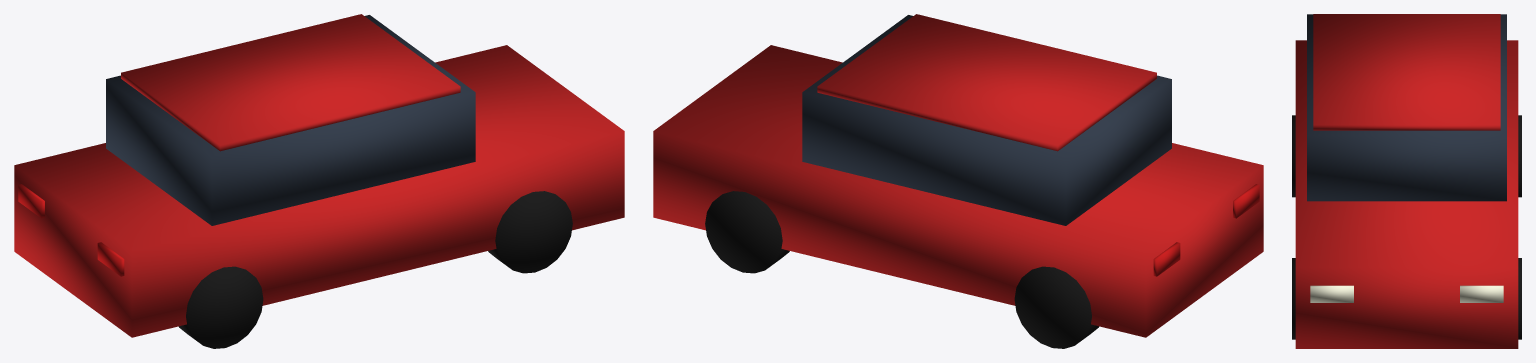
Rendered from traffic_car_red.dae.
The picture shows the model from 3 angles, left to right: view 1: azimuth 30°, elevation 25°; view 2: azimuth 150°, elevation 25°; view 3: azimuth 270°, elevation 25°; orthographic projection. The views are drawn at different scales.
Visible parts, largest first — view 1: node0, node1, node2, node3, node5, node8, node10; view 2: node0, node1, node2, node4, node6, node10, node8; view 3: node0, node2, node1, node7, node9, node3, node4, node5, node6.
Part boxes in pixels (bbox=[...]): node0: bbox=[14, 45, 624, 337]; node1: bbox=[106, 15, 475, 225]; node2: bbox=[121, 14, 460, 151]; node3: bbox=[178, 266, 263, 348]; node5: bbox=[488, 191, 572, 273]; node8: bbox=[97, 242, 124, 276]; node10: bbox=[18, 184, 44, 218]; node0: bbox=[653, 45, 1263, 337]; node1: bbox=[802, 15, 1171, 225]; node2: bbox=[817, 14, 1156, 151]; node4: bbox=[1014, 266, 1099, 348]; node6: bbox=[705, 191, 789, 273]; node10: bbox=[1153, 242, 1180, 276]; node8: bbox=[1233, 184, 1259, 218]; node0: bbox=[1295, 40, 1518, 348]; node2: bbox=[1313, 14, 1500, 130]; node1: bbox=[1307, 14, 1506, 201]; node7: bbox=[1310, 285, 1353, 302]; node9: bbox=[1460, 285, 1503, 302]; node3: bbox=[1292, 115, 1295, 197]; node4: bbox=[1518, 115, 1521, 197]; node5: bbox=[1292, 258, 1295, 339]; node6: bbox=[1518, 258, 1521, 339].
Bounding box in the file's own units: 4.36 × 1.84 × 1.61.
